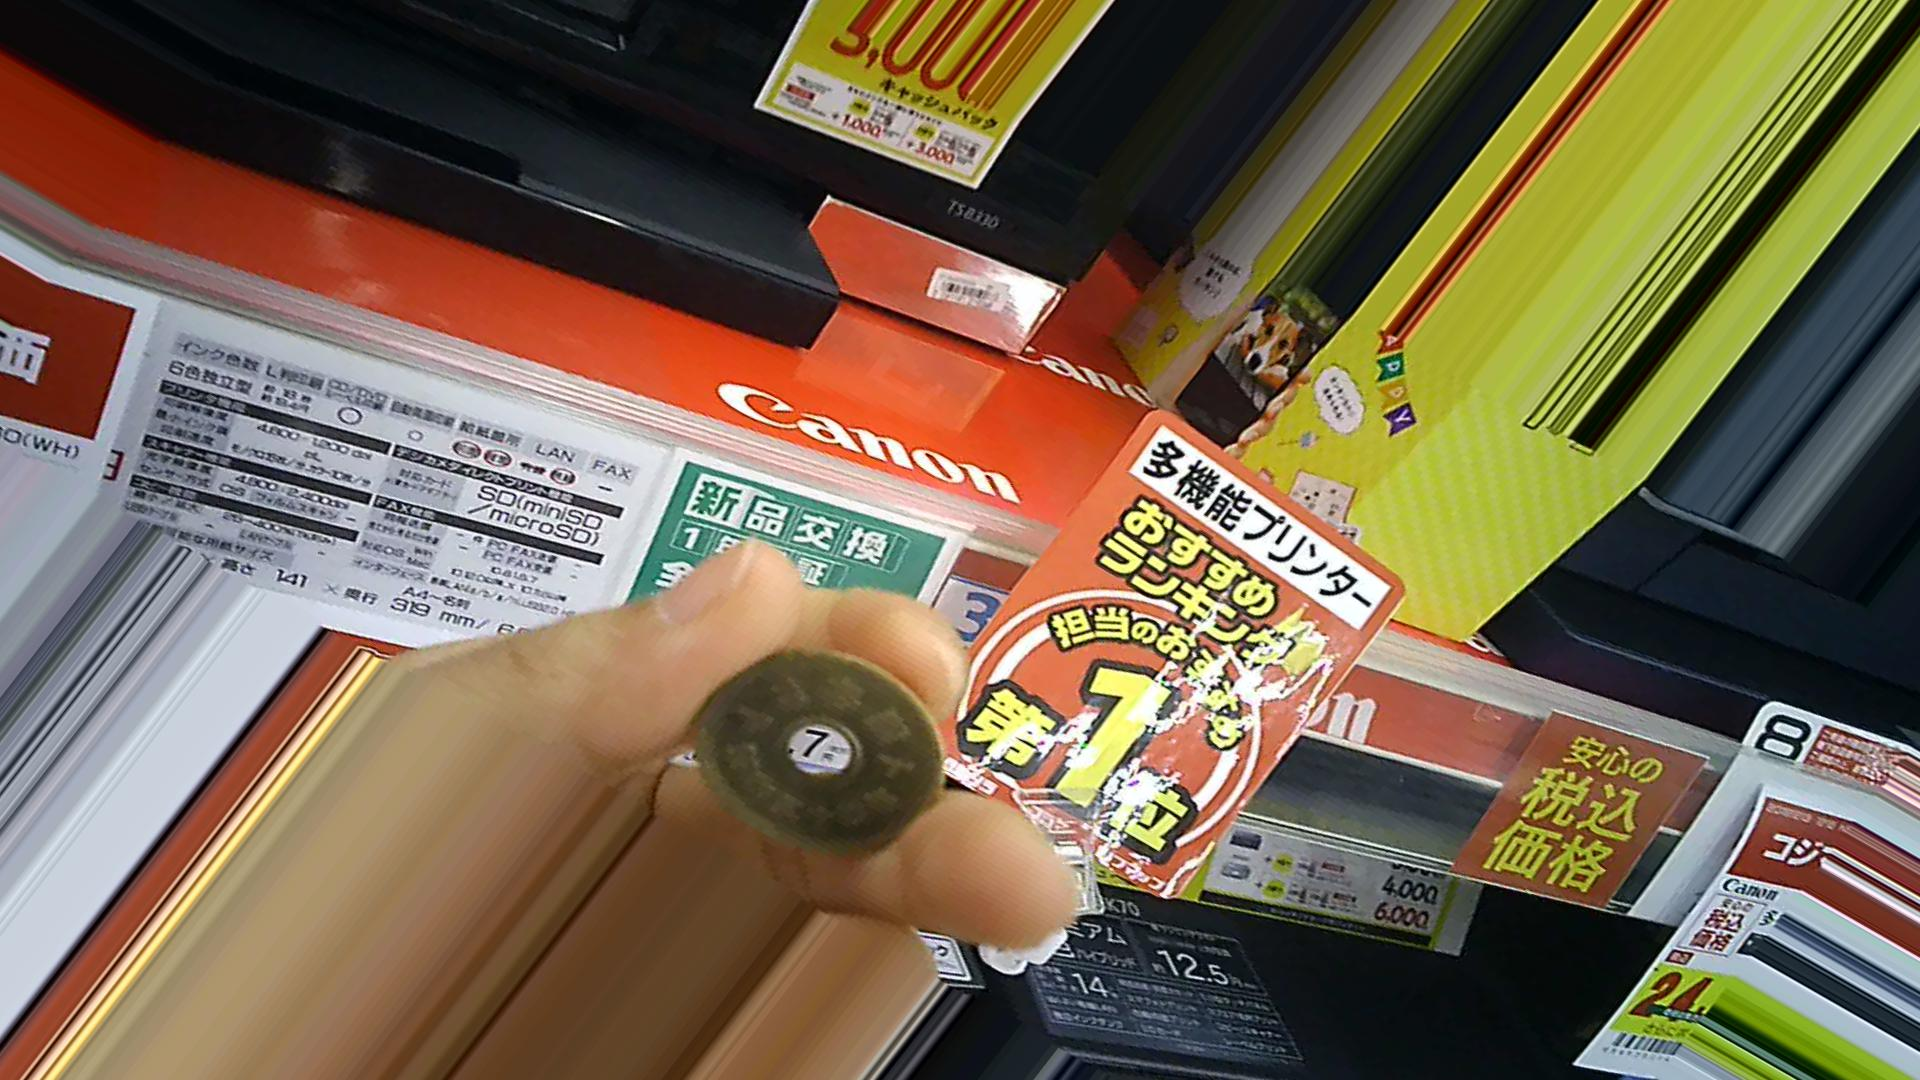5 Yen: (688, 651, 934, 858)
